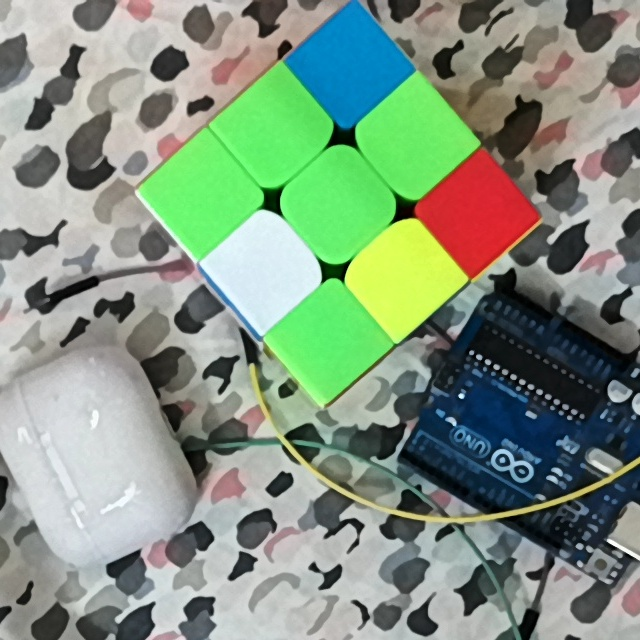tile: (377, 106, 449, 170), (306, 169, 370, 239), (243, 98, 307, 162), (295, 309, 359, 372), (319, 35, 382, 98), (232, 237, 294, 299), (448, 180, 509, 243), (168, 163, 231, 224), (375, 242, 434, 306)
